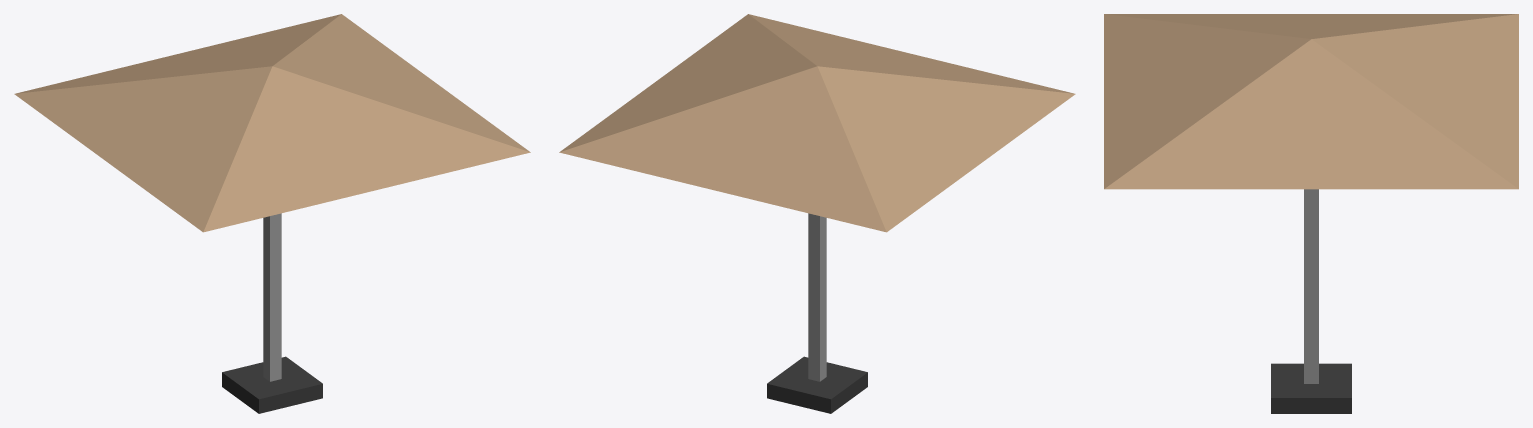
Rendered from Umbrella_03.fbx.
3 renders of one model, left to right at view 1: azimuth 30°, elevation 25°; view 2: azimuth 150°, elevation 25°; view 3: azimuth 270°, elevation 25°, orthographic. The views are drawn at different scales.
Parts seen in each view (by area): view 1: Umbrella_03; view 2: Umbrella_03; view 3: Umbrella_03.
Part boxes in pixels (x1,y1,x2,y2): Umbrella_03: [14, 14, 530, 413]; Umbrella_03: [559, 14, 1075, 413]; Umbrella_03: [1104, 14, 1518, 413].
Bounding box in the file's own units: 300 × 285 × 300.
